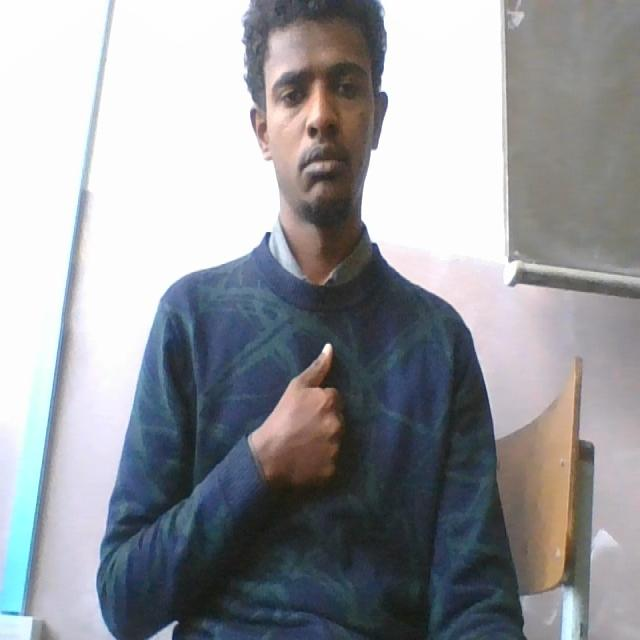yerase: (259, 330, 357, 497)
